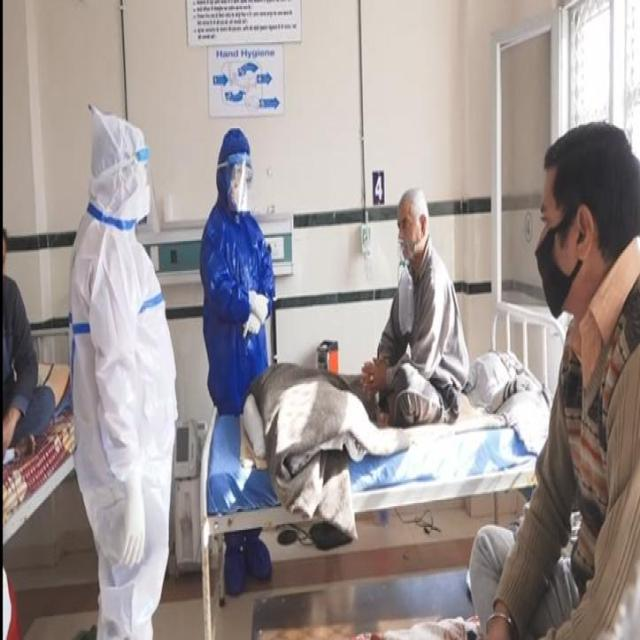Coverall: (58, 52, 176, 640), (201, 98, 316, 459)
Gloves: (105, 455, 153, 580), (237, 273, 274, 362)
Mask: (523, 221, 579, 333), (125, 174, 157, 225), (231, 183, 252, 213)
